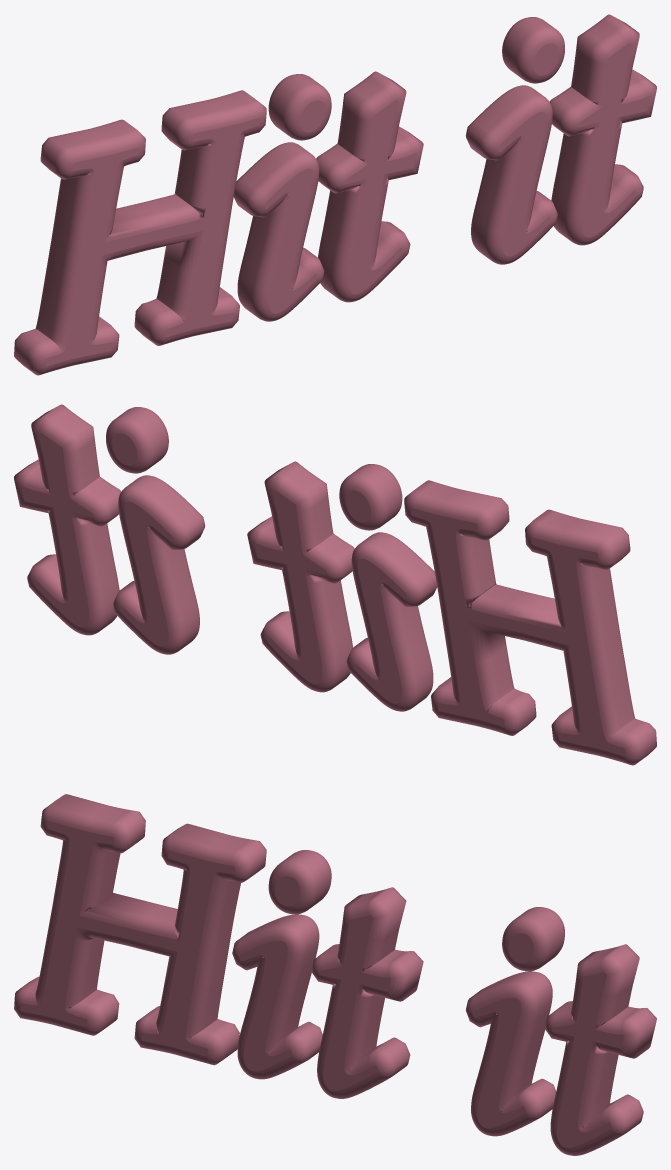
Rendered from HitIt.obj.
3 views of the same model, one above another, from view 1: azimuth 30°, elevation 25°; view 2: azimuth 150°, elevation 25°; view 3: azimuth 330°, elevation 25° (orthographic).
Parts seen in each view (by area): view 1: テキスト.010; view 2: テキスト.010; view 3: テキスト.010.
Part boxes in pixels (x1=…): テキスト.010: x1=14, y1=14, x2=656, y2=375; テキスト.010: x1=14, y1=404, x2=656, y2=765; テキスト.010: x1=14, y1=794, x2=656, y2=1155.
Bounding box in the file's own units: 1.72 × 0.5944 × 0.12.
